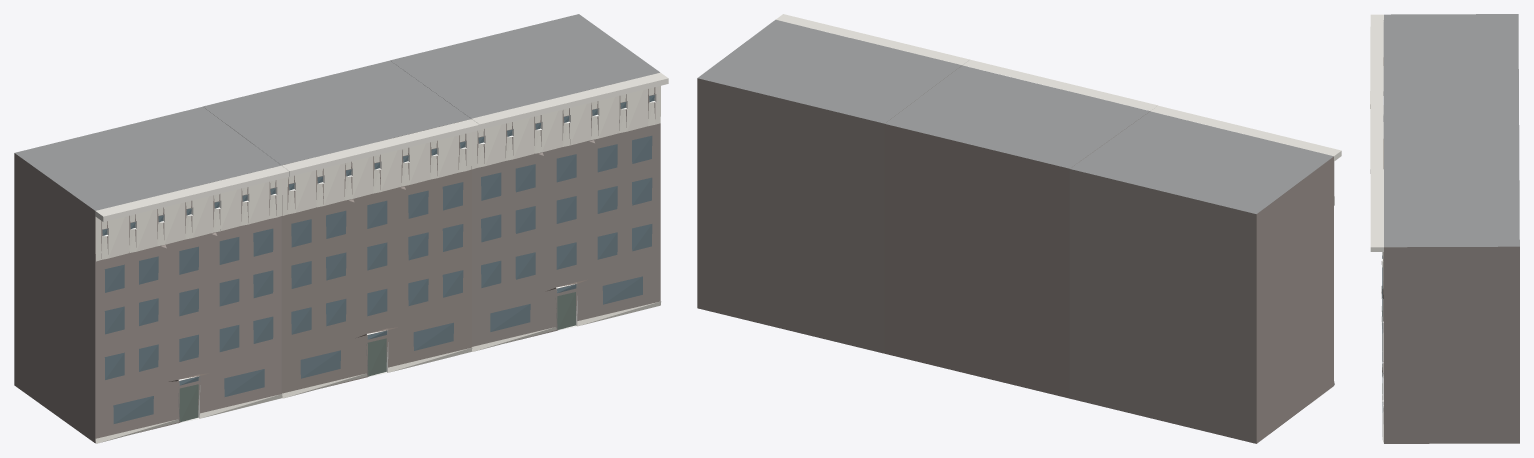
The model's file is chunk-face-hembrug-44-154-r1.lod2.glb.
3 renders of one model, left to right at view 1: azimuth 30°, elevation 25°; view 2: azimuth 150°, elevation 25°; view 3: azimuth 270°, elevation 25°, orthographic. The views are drawn at different scales.
Visible parts, largest first — view 1: lod2; view 2: lod2; view 3: lod2.
Part boxes in pixels (bbox=[...]): lod2: bbox=[14, 14, 668, 443]; lod2: bbox=[697, 14, 1341, 443]; lod2: bbox=[1370, 14, 1519, 443].
Bounding box in the file's own units: 37.57 × 14.75 × 10.18.
